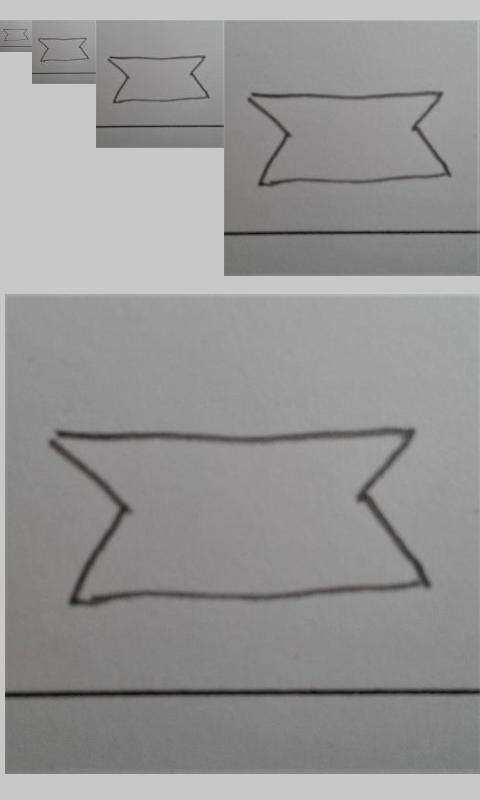edit_text: (50, 426, 430, 609), (246, 91, 450, 188), (107, 55, 211, 104), (38, 37, 89, 62), (3, 28, 28, 42)
